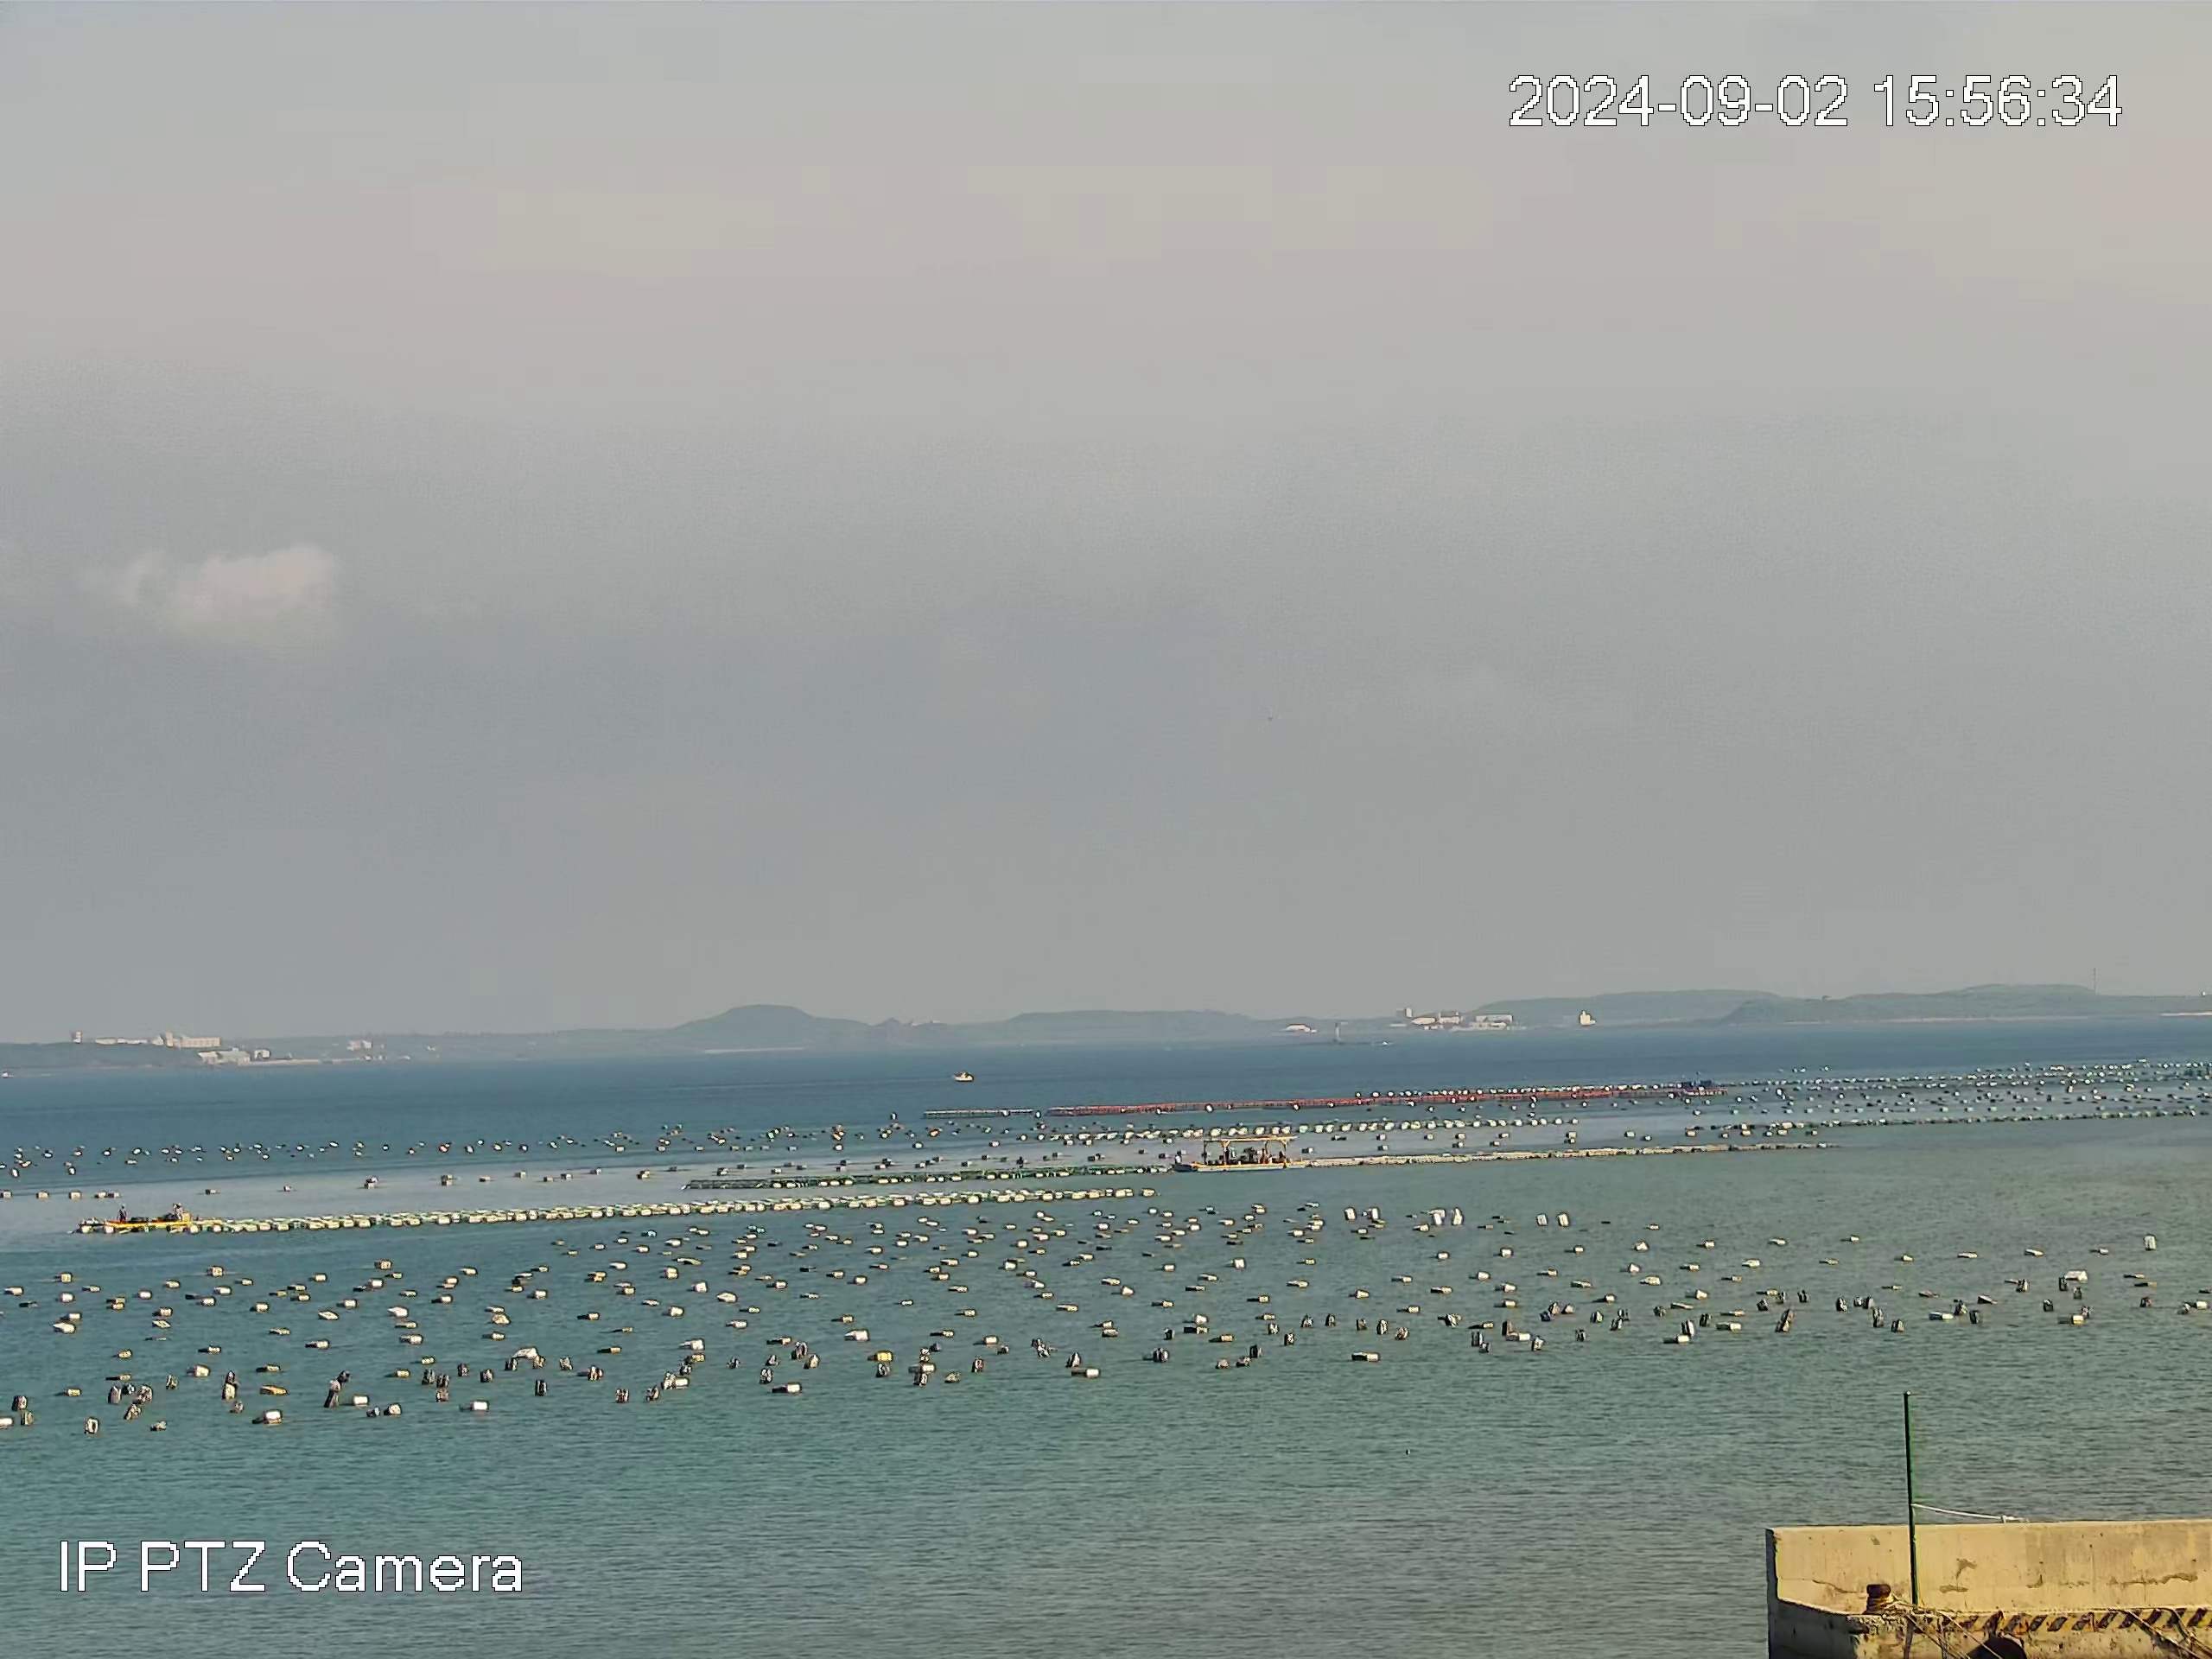boat: (1188, 1134, 1308, 1173), (103, 1201, 223, 1227), (951, 1068, 975, 1084)
